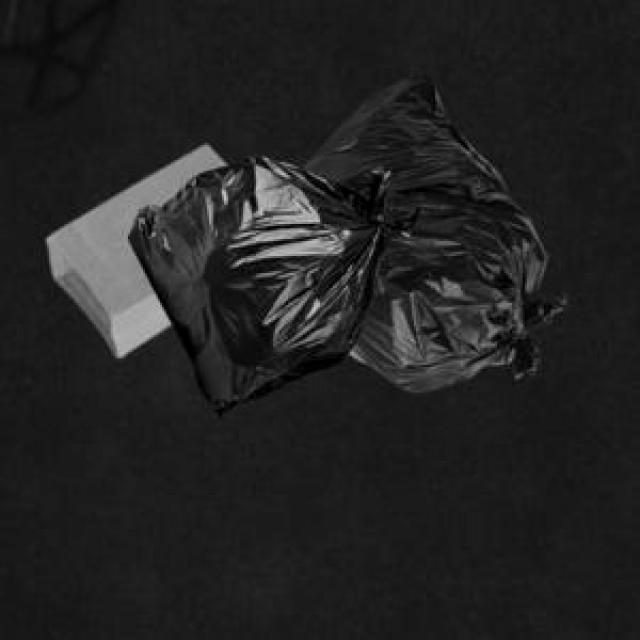miscellaneous trash: (299, 68, 563, 388), (124, 154, 416, 412)
paper: (43, 141, 222, 352)
